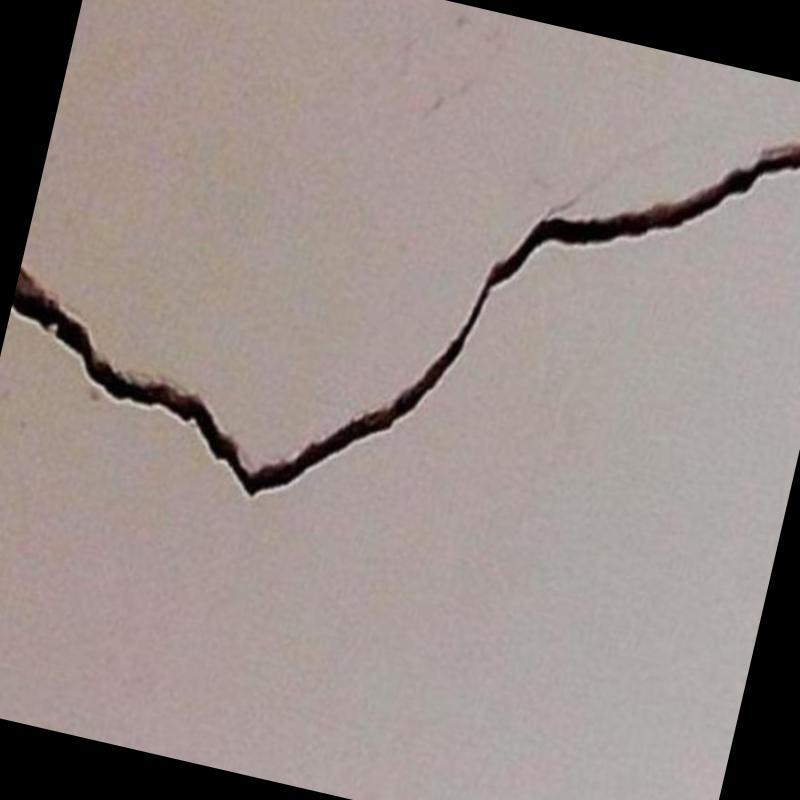crack: (11, 142, 800, 494)
